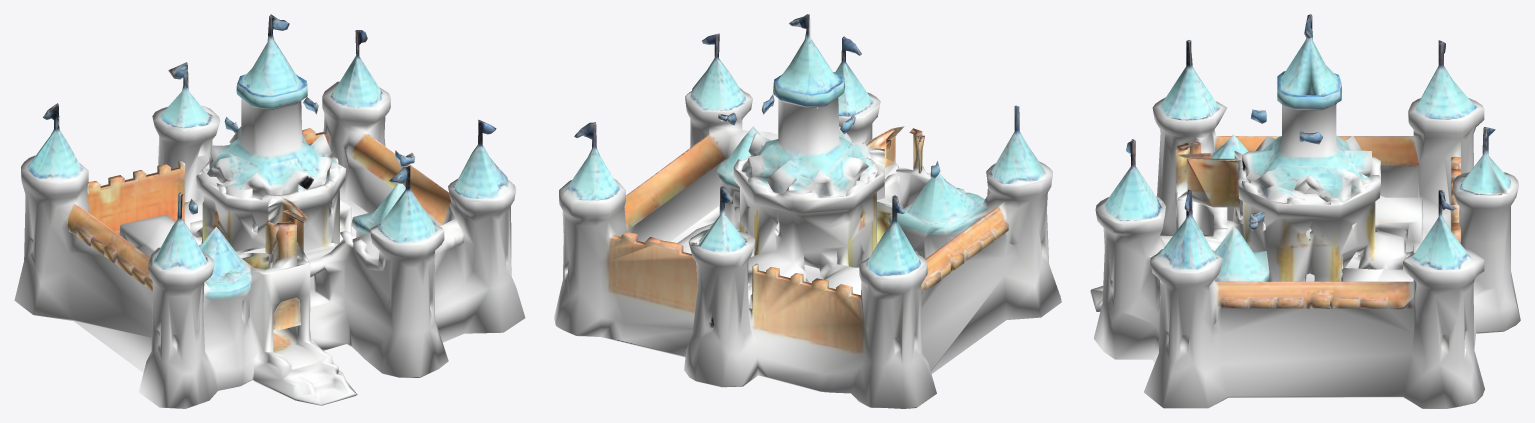
File: castle_player.glb
3 renders of one model, left to right at view 1: azimuth 30°, elevation 25°; view 2: azimuth 150°, elevation 25°; view 3: azimuth 270°, elevation 25°, orthographic. The views are drawn at different scales.
Bounding box in the file's own units: 1.91 × 1.49 × 1.89.
1 material, 1 textured.
